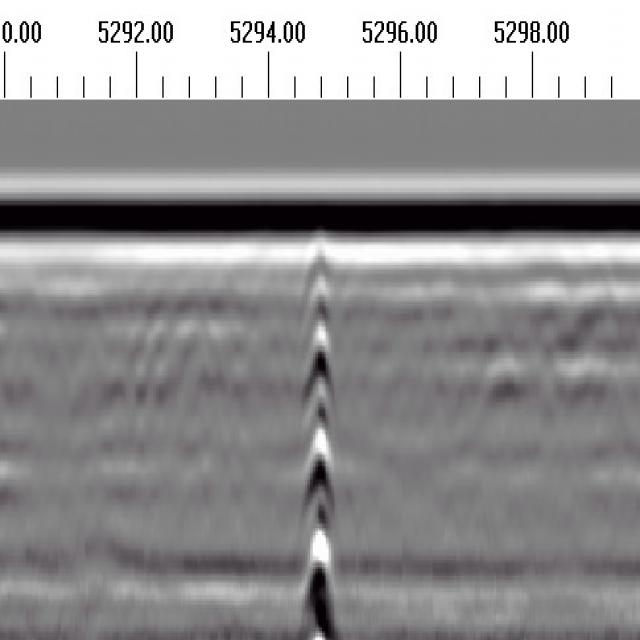crack: (299, 234, 338, 639)
